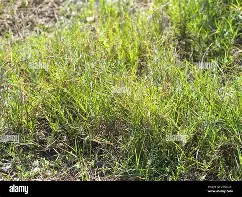weed: (0, 0, 241, 179)
